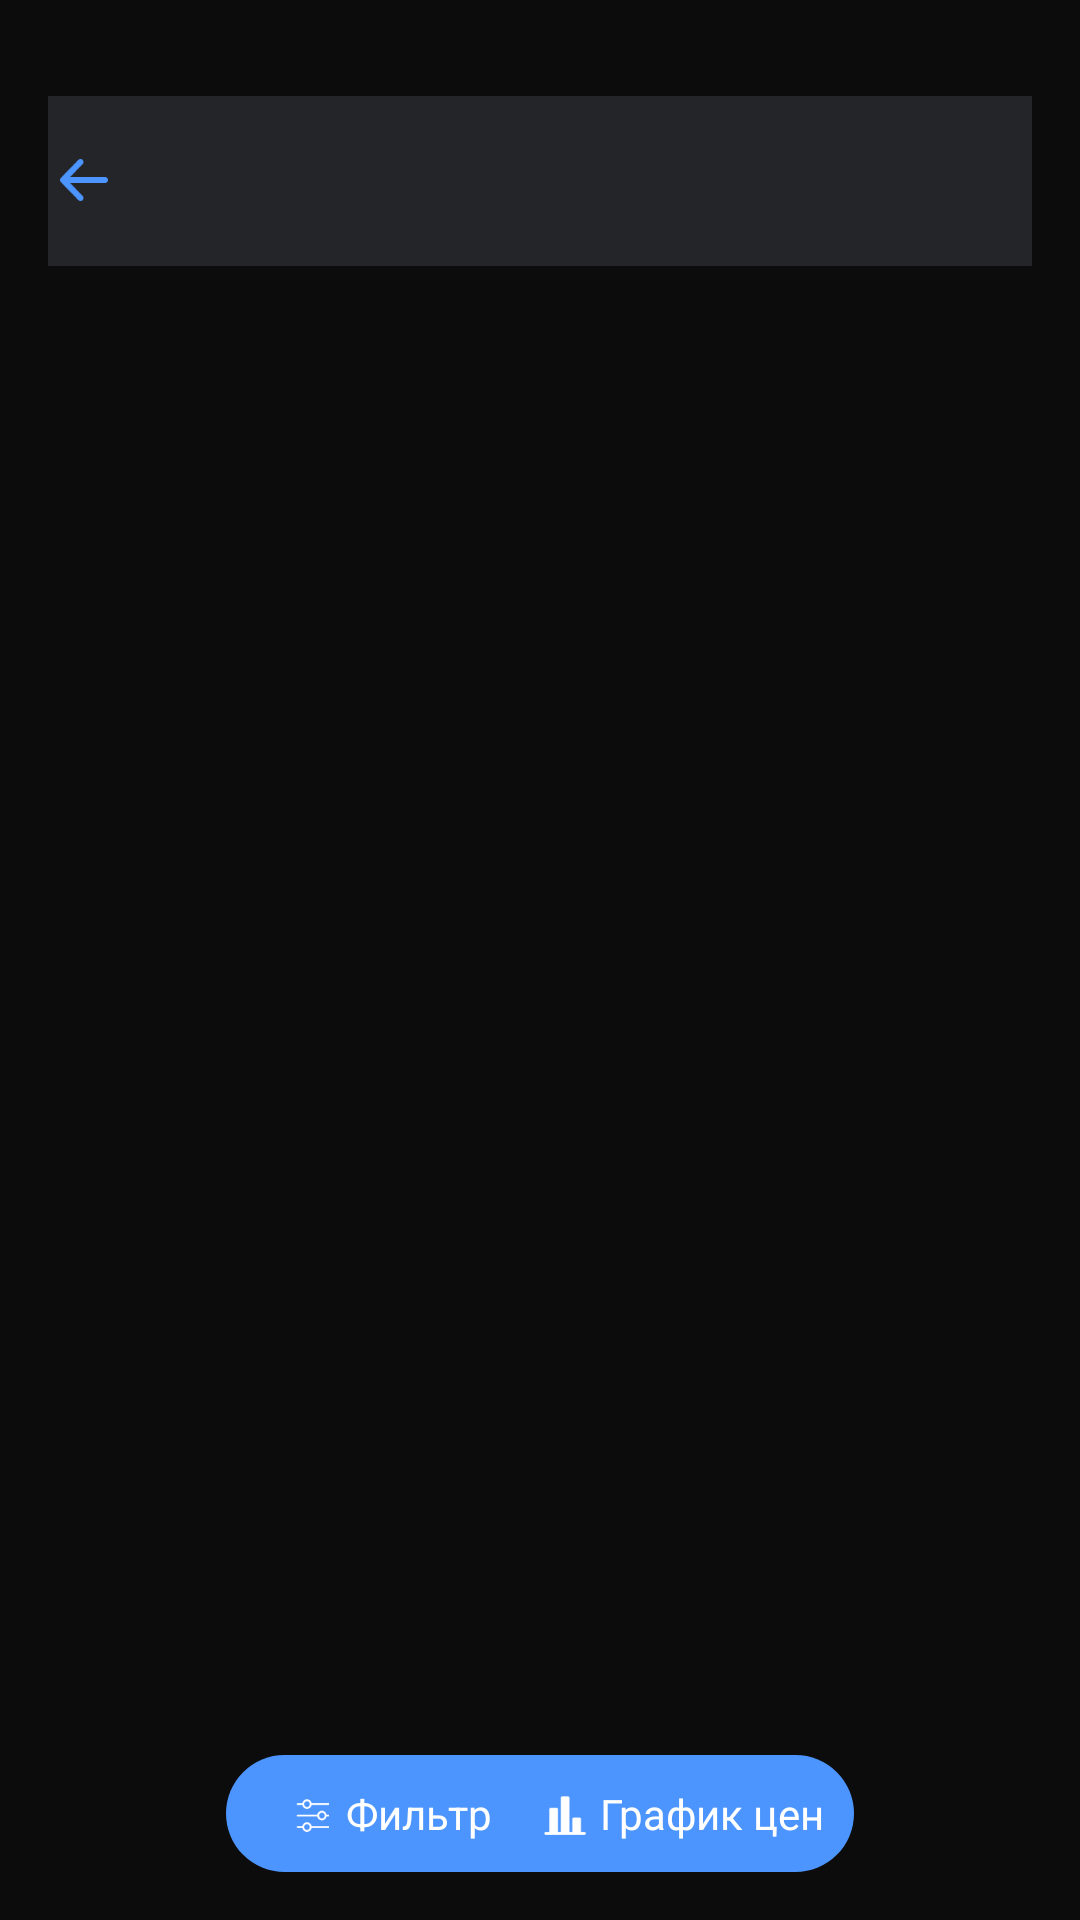

Locate icon controls on the screen. Image size 1080x1920, boxes as bbox=(x1, y1, x2, y2).
back: bbox=(60, 159, 108, 201)
filter: bbox=(296, 1799, 329, 1832)
graph: bbox=(544, 1796, 586, 1835)
